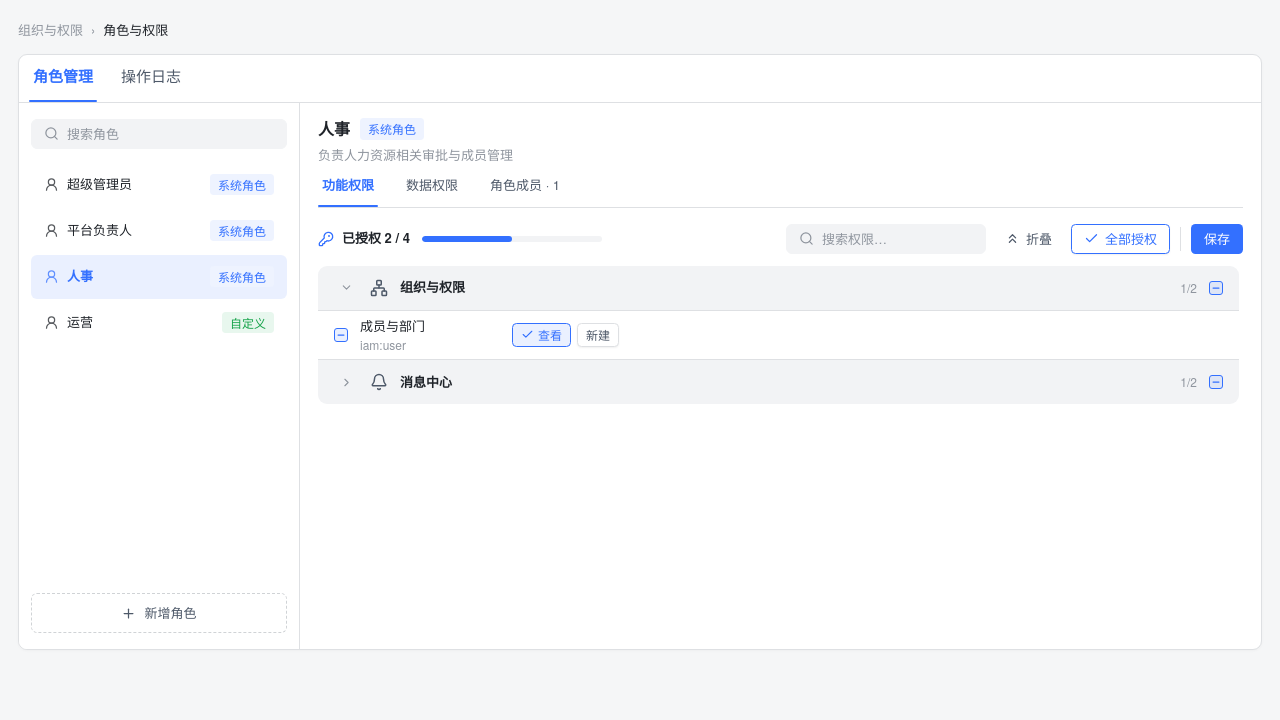
数据权限只编辑角色级范围，不渲染虚假的资源级覆盖
Click the tab "数据权限": [432, 191] box [402,176,462,207]
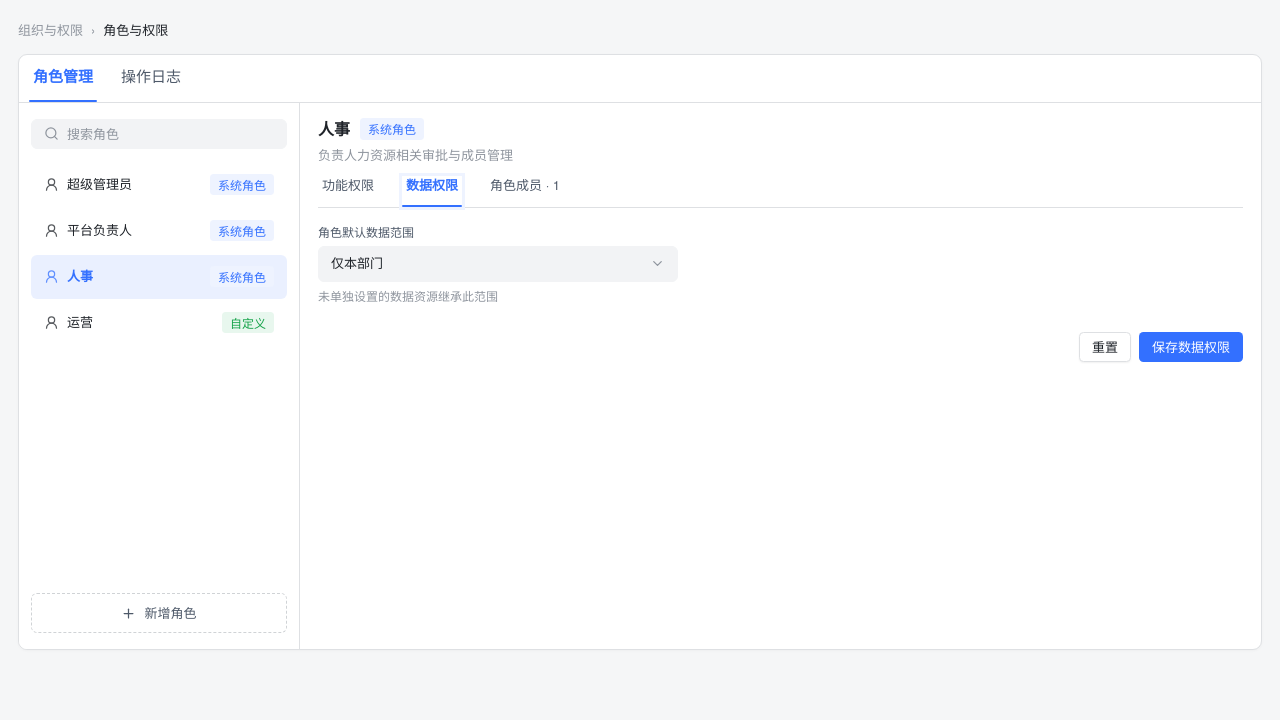
Result: the dropdown named "角色默认数据范围" is shown at [318,246,678,282]
